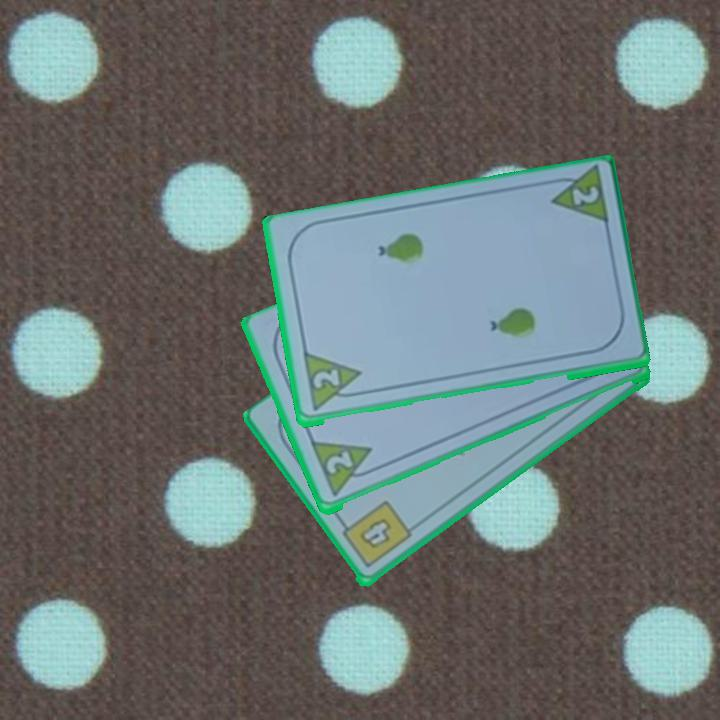2p: (321, 448, 356, 478), (568, 183, 602, 209), (309, 366, 342, 392)
4b: (335, 498, 414, 572)
